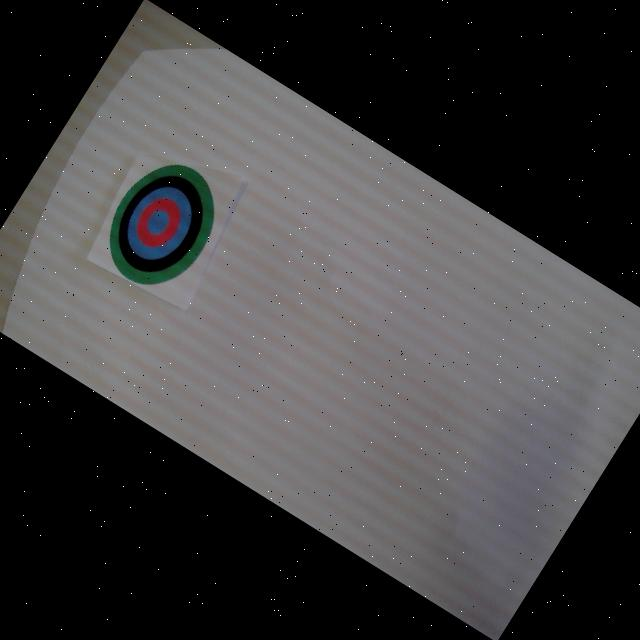COGNITIVE: (86, 144, 237, 305)
